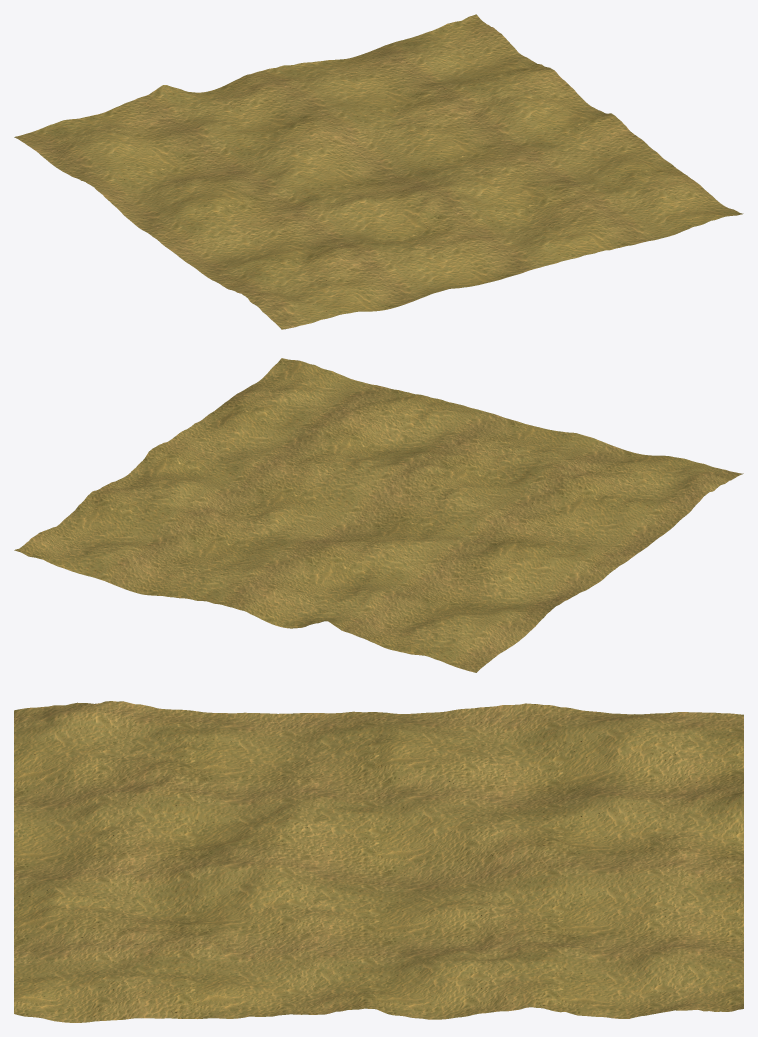
The model's file is Sand.fbx.
3 views of the same model, one above another, from view 1: azimuth 30°, elevation 25°; view 2: azimuth 150°, elevation 25°; view 3: azimuth 270°, elevation 25° (orthographic). The views are drawn at different scales.
Parts seen in each view (by area): view 1: SandStatic; view 2: SandStatic; view 3: SandStatic.
Part boxes in pixels (<box>): SandStatic: <box>14,14,743,329</box>; SandStatic: <box>14,358,743,672</box>; SandStatic: <box>14,701,743,1022</box>.
Size of the model in its own units: 7568 by 329 by 7588.
Materials: 1 (1 with a texture image).
